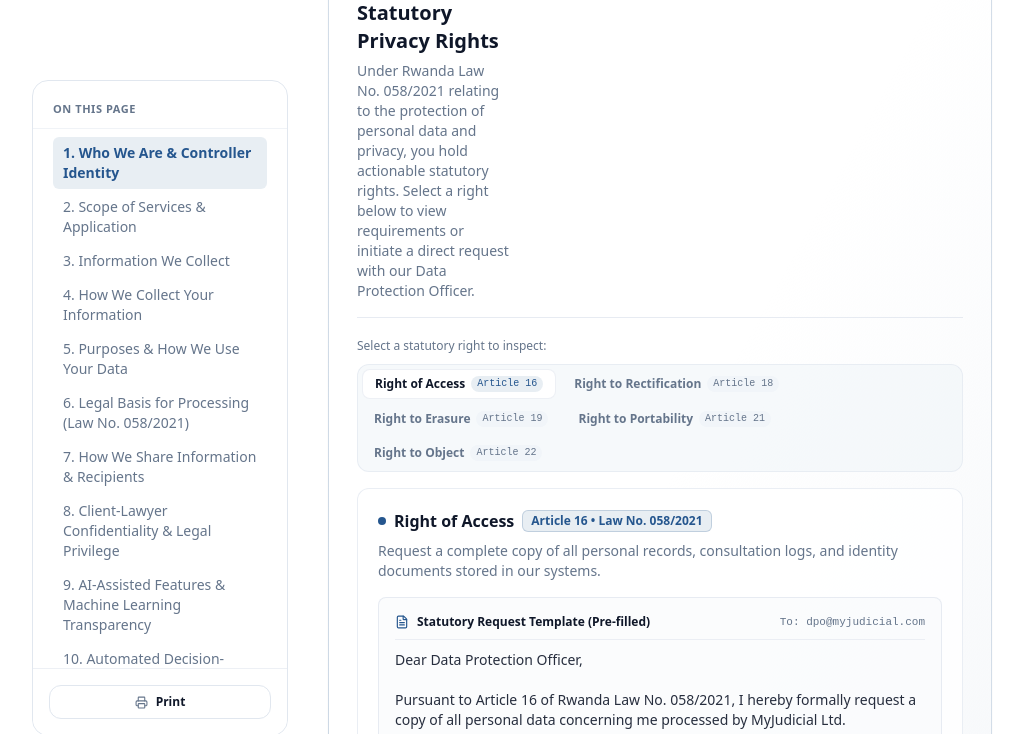
Scenario: PrivacyPolicy — LegalPageClient › allows switching statutory rights tabs and updates details accordingly
The width and height of the screenshot is (1024, 734).
(page scrolled)
Expected: the text "Request a complete copy of all personal records, consultation logs, and identity documents stored in our systems." is shown, x1=378 y1=541 x2=898 y2=580
Click the tab "Right to Rectification Article 18" at (677, 384), box x1=562 y1=369 x2=791 y2=399
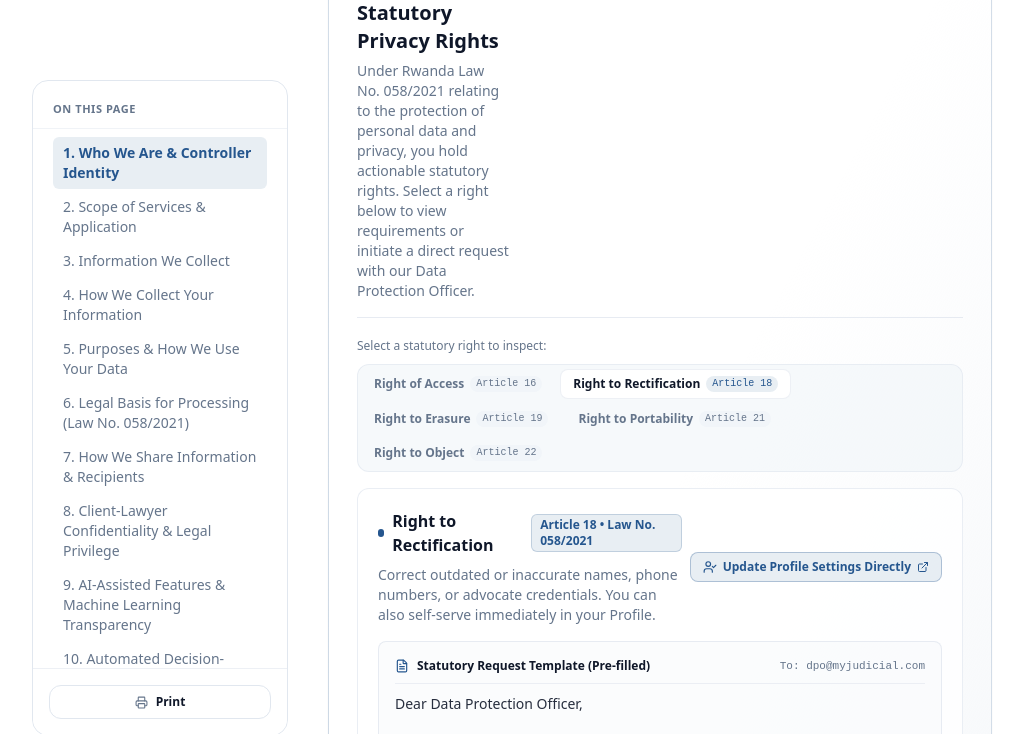
Result: the text "Correct outdated or inaccurate names, phone numbers, or advocate credentials. You can also self-serve immediately in you" is shown at x1=378 y1=565 x2=678 y2=624
Result: the text "Update Profile Settings Directly" is shown at x1=723 y1=559 x2=911 y2=575
Click the tab "Right to Erasure Article 19" at (461, 419), box x1=362 y1=405 x2=560 y2=433
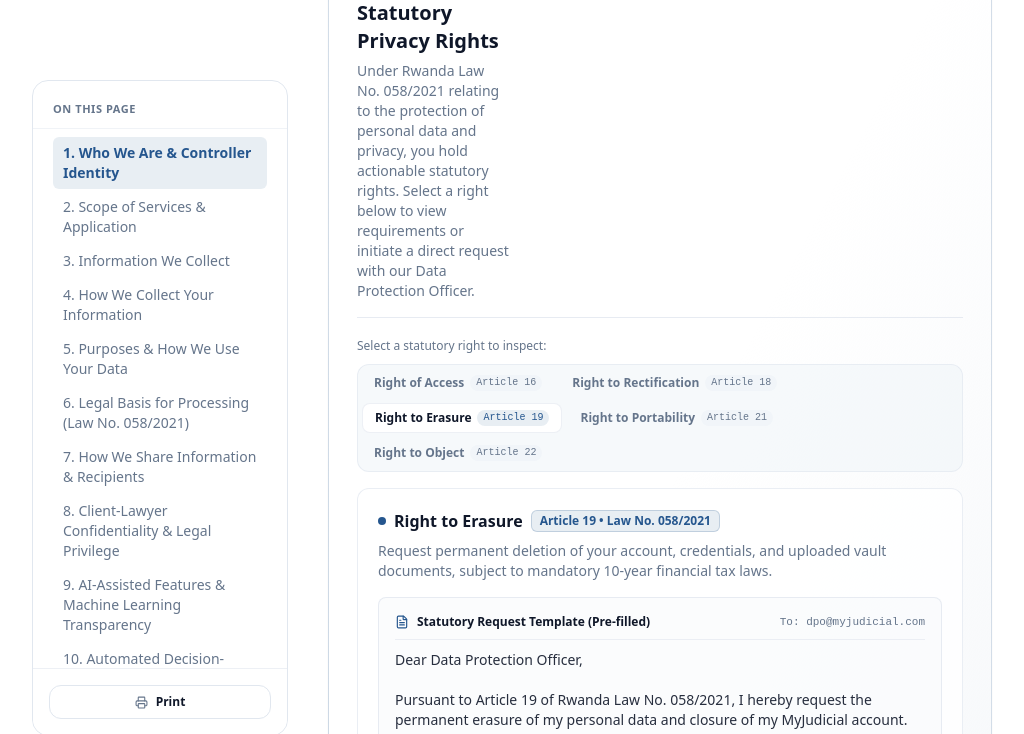
Result: the text "Request permanent deletion of your account, credentials, and uploaded vault documents, subject to mandatory 10-year fina" is shown at x1=378 y1=541 x2=886 y2=580
